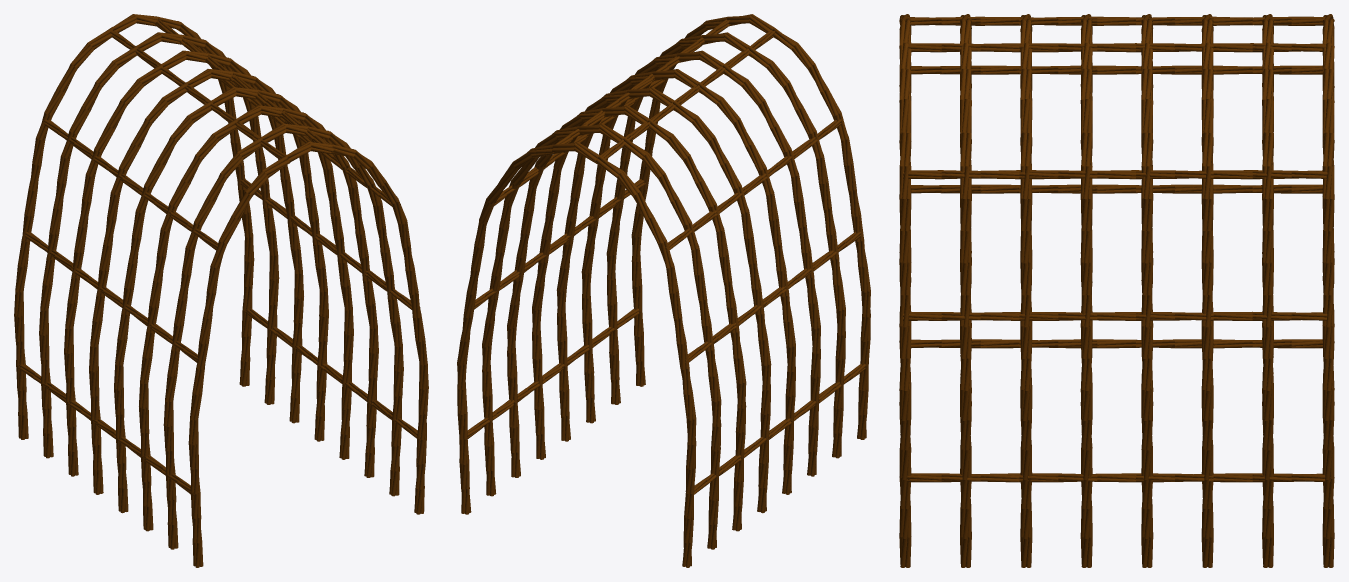
The model's file is mod_bg_archeenosier.fbx.
The picture shows the model from 3 angles, left to right: view 1: azimuth 30°, elevation 25°; view 2: azimuth 150°, elevation 25°; view 3: azimuth 270°, elevation 25°; orthographic projection. The views are drawn at different scales.
Visible parts, largest first — view 1: arche; view 2: arche; view 3: arche.
Boxes of the visible parts, x1,y1,x2,y2 form: arche: [14, 14, 428, 567]; arche: [457, 14, 870, 567]; arche: [899, 14, 1334, 567].
Bounding box in the file's own units: 125 × 200 × 164.
